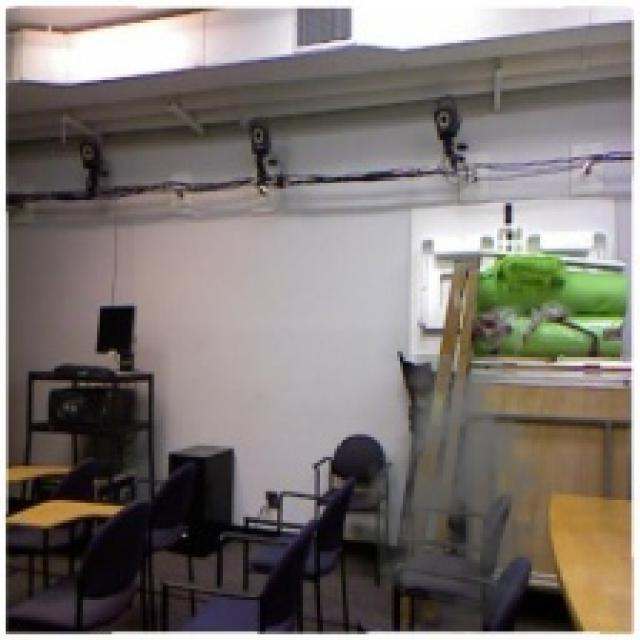Smoke: (357, 354, 563, 634)
